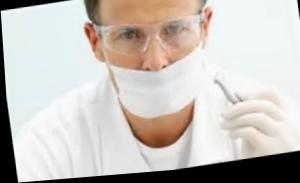WRONG: (97, 1, 214, 128)
